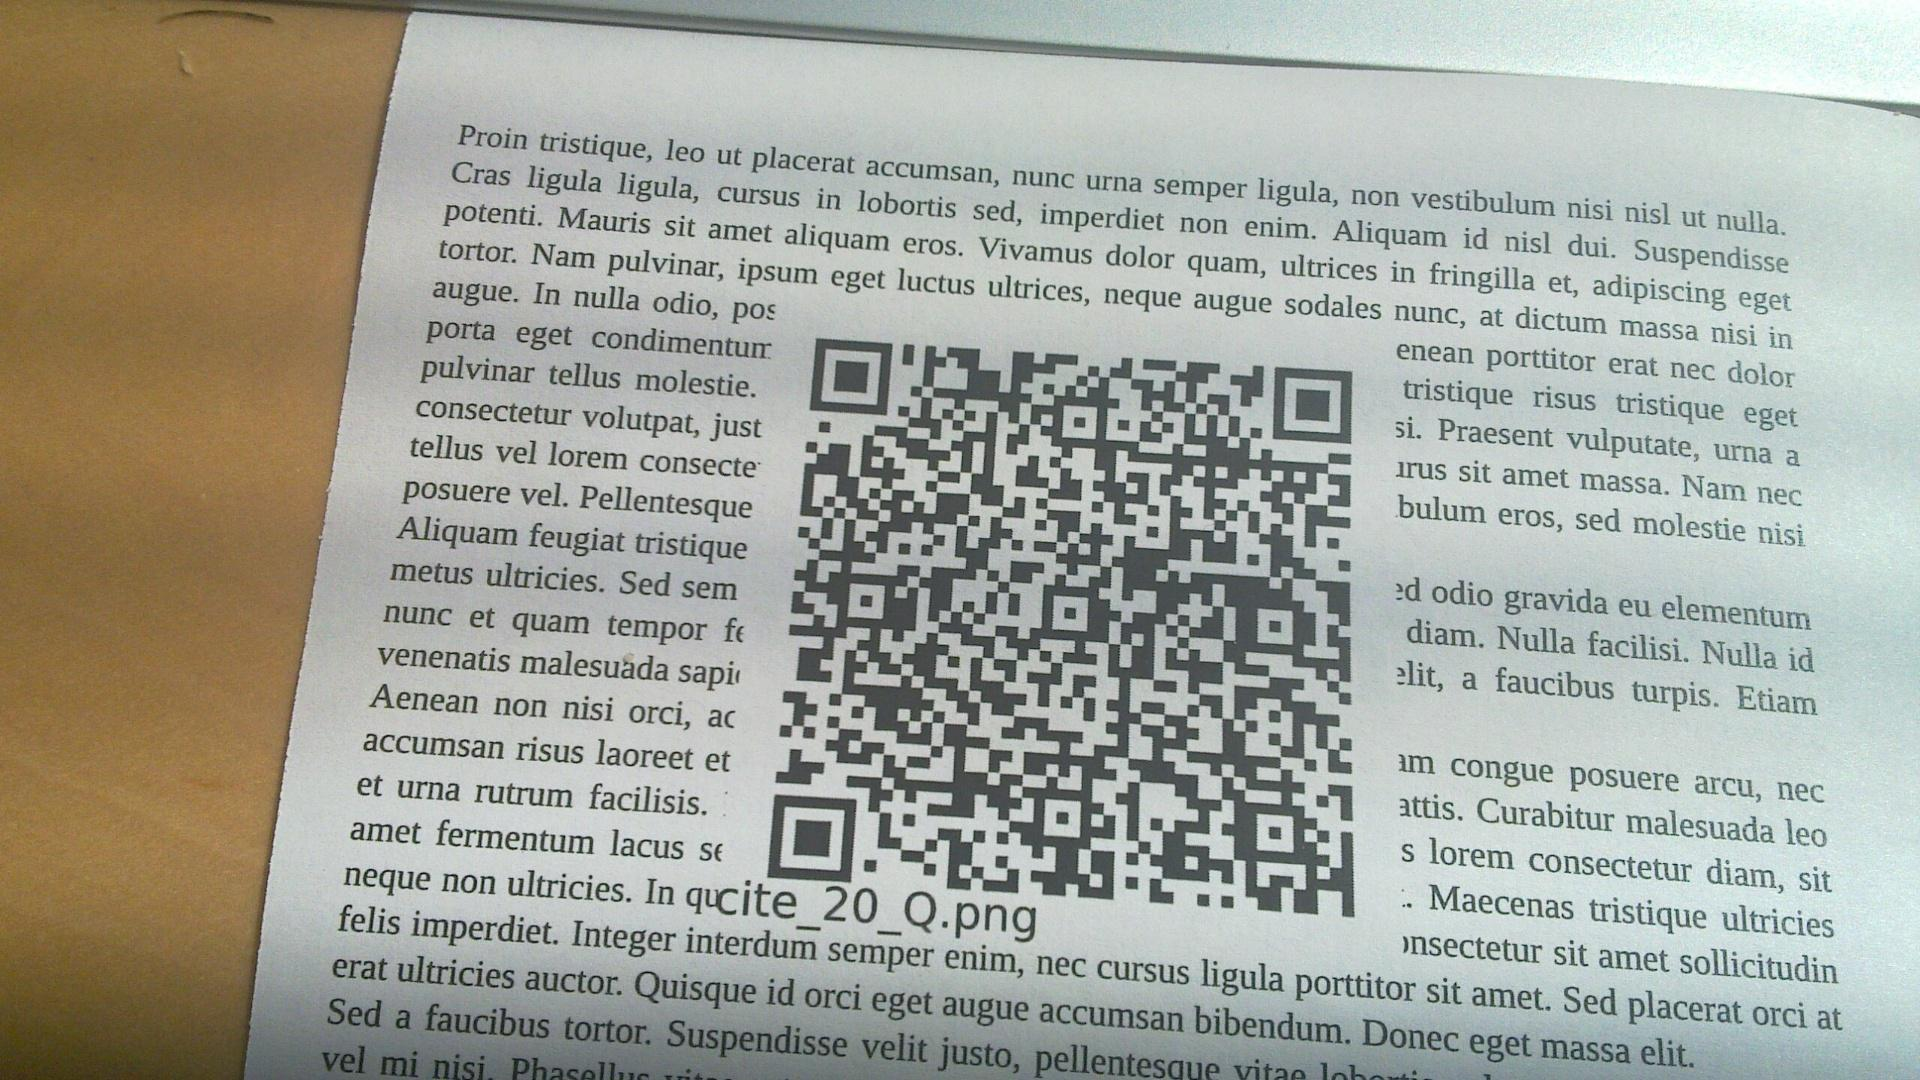Finder pattern: (762, 791, 858, 887), (802, 334, 897, 417), (1269, 363, 1360, 444)
